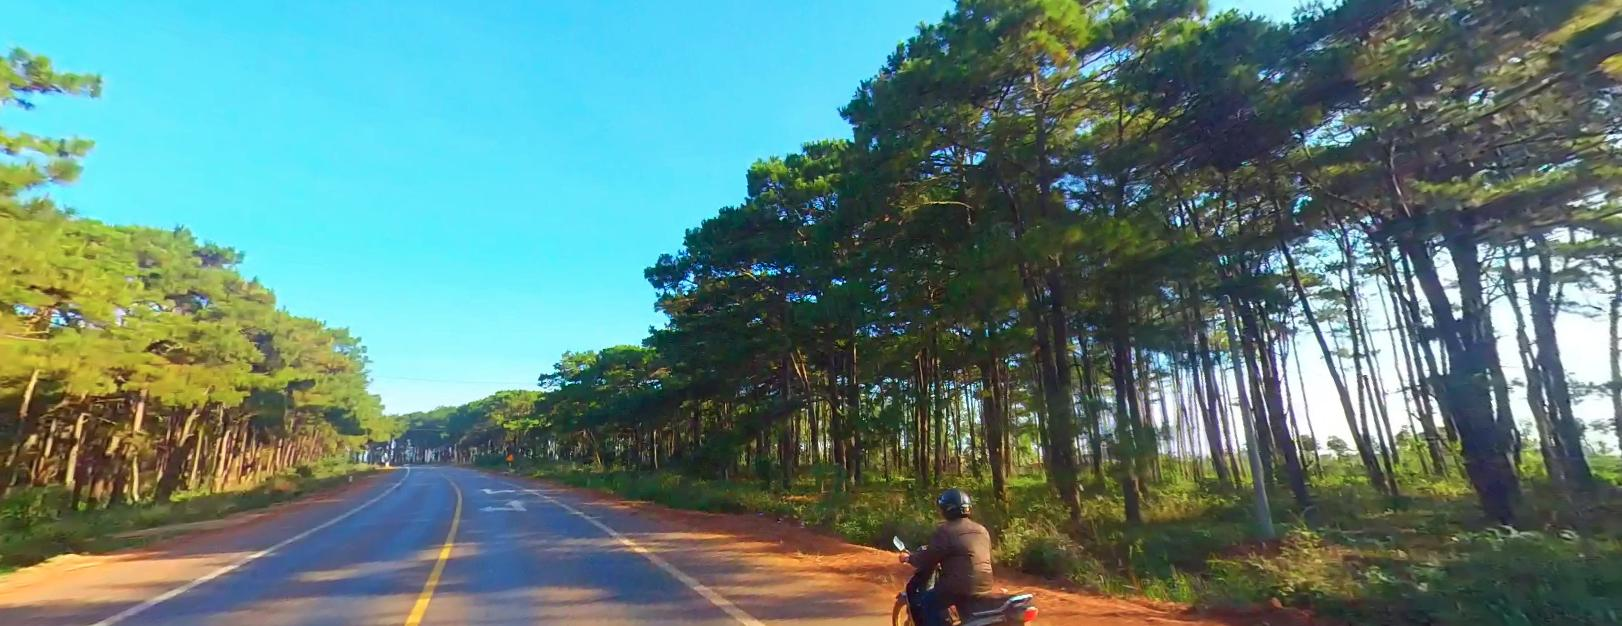Nguy hiem: (505, 451, 514, 461)
